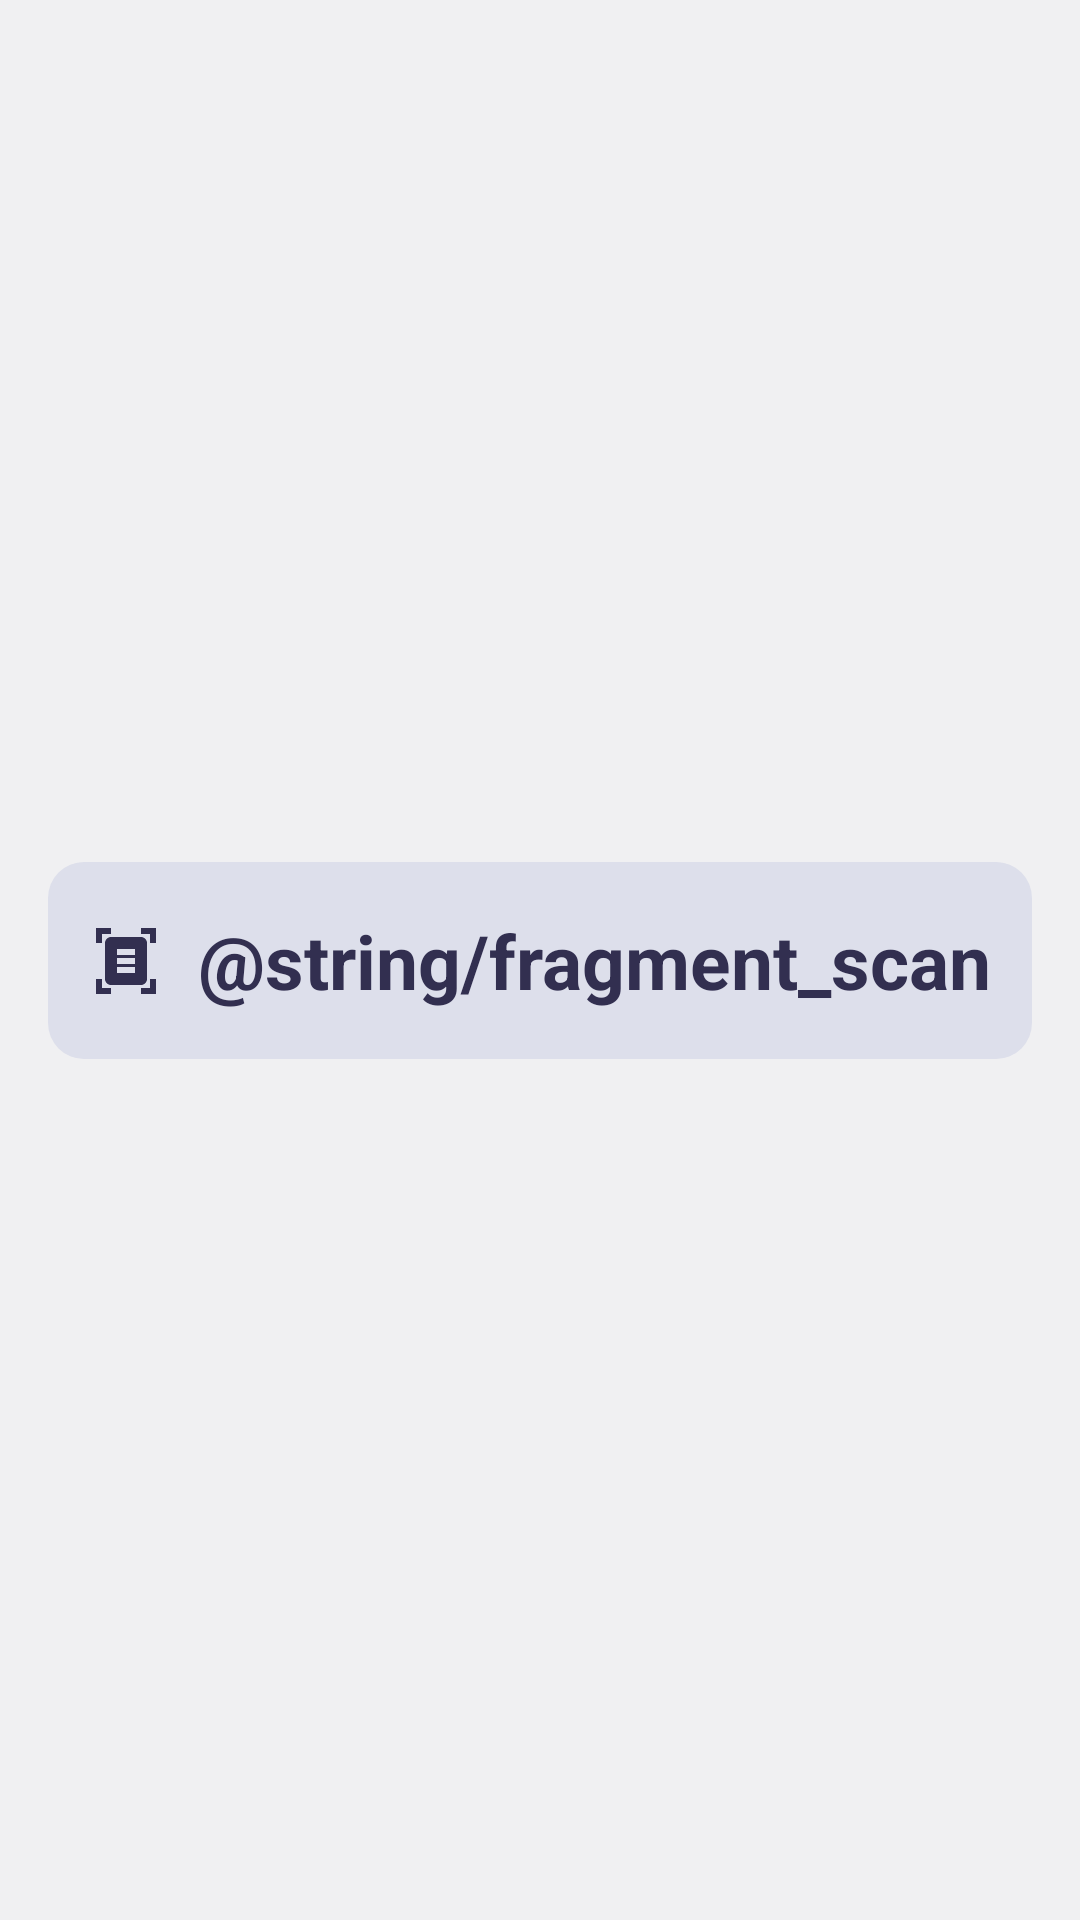

Locate icon controls on the screen. Image size 1080 × 1920, boxes as (x1, y1, x2, y2).
document scanner: (96, 928, 156, 994)
